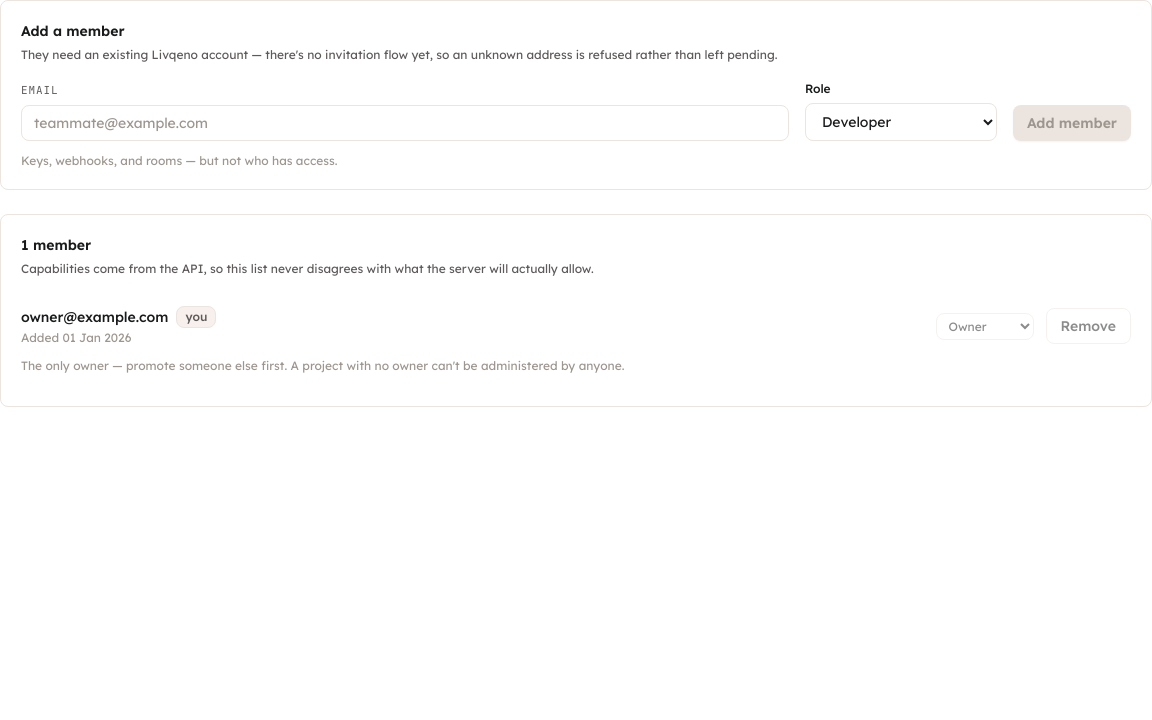
it: MembersManager › a network failure while adding a member shows the same message inline and as a toast
In the field labelled "Email": (405,122) [21,104,789,140], type "new@example.com"
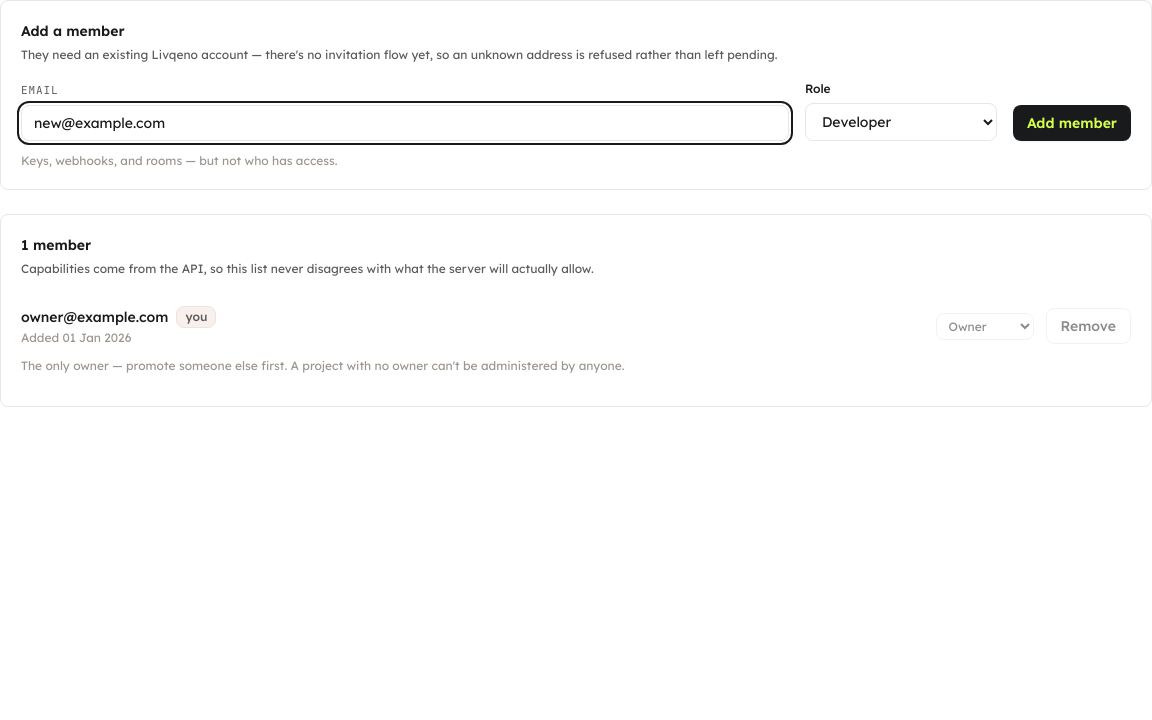
Click the button "Add member": (1072,122) [1013,104,1131,140]
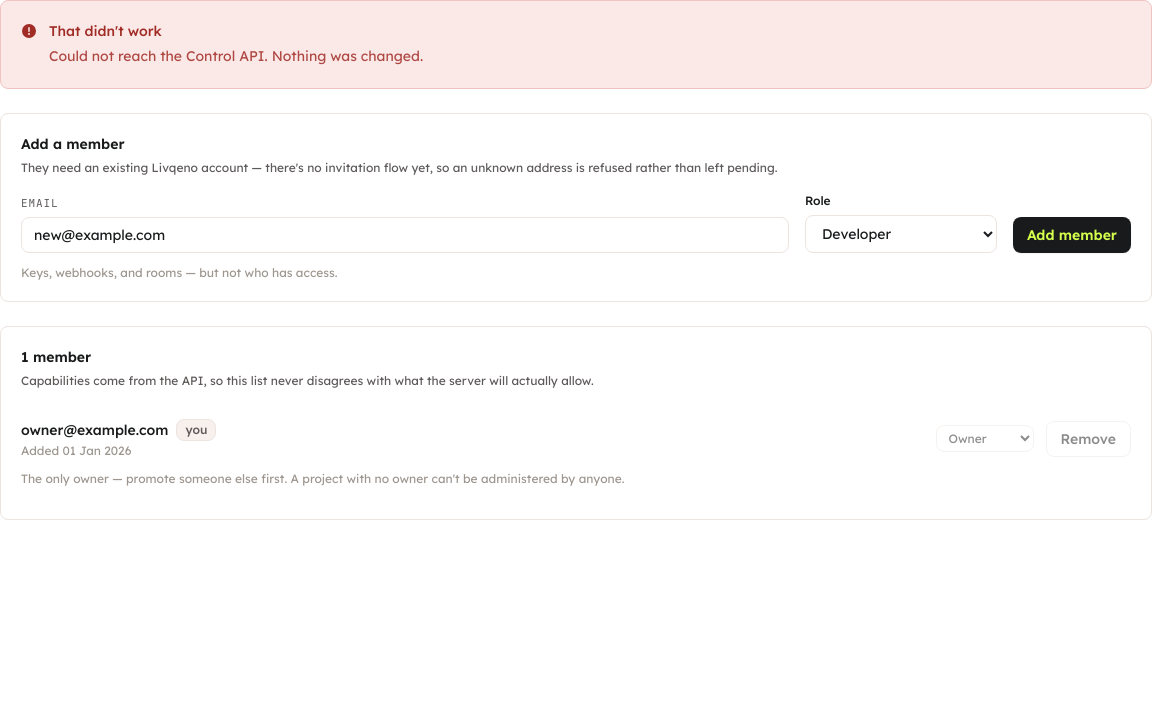
Now the text "Could not reach the Control API. Nothing was changed." is shown, box [49,47,423,65]
